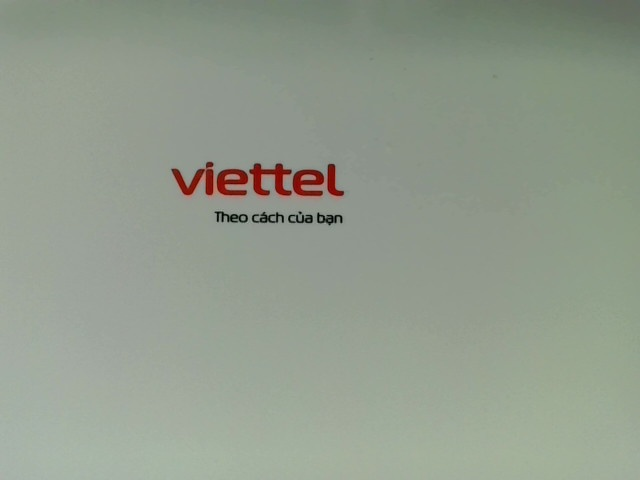AY_Viettel: (166, 155, 355, 237)
